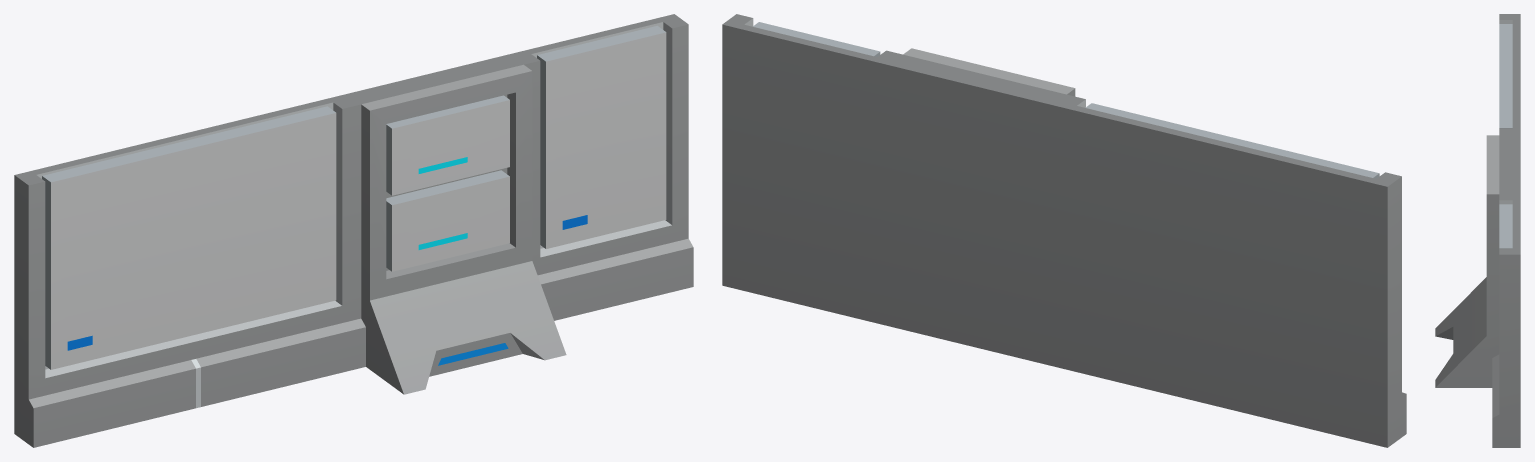
The model's file is Wall_type_A_033.glb.
3 renders of one model, left to right at view 1: azimuth 30°, elevation 25°; view 2: azimuth 150°, elevation 25°; view 3: azimuth 270°, elevation 25°, orthographic. The views are drawn at different scales.
Visible parts, largest first — view 1: Wall_type_A_033; view 2: Wall_type_A_033; view 3: Wall_type_A_033.
Part boxes in pixels (box(x1,y1,x2,y2)): Wall_type_A_033: box(14, 14, 693, 447); Wall_type_A_033: box(722, 14, 1406, 447); Wall_type_A_033: box(1435, 14, 1520, 447).
Bounding box in the file's own units: 4 × 1.5 × 0.6.
Materials: 2 (2 with a texture image).
